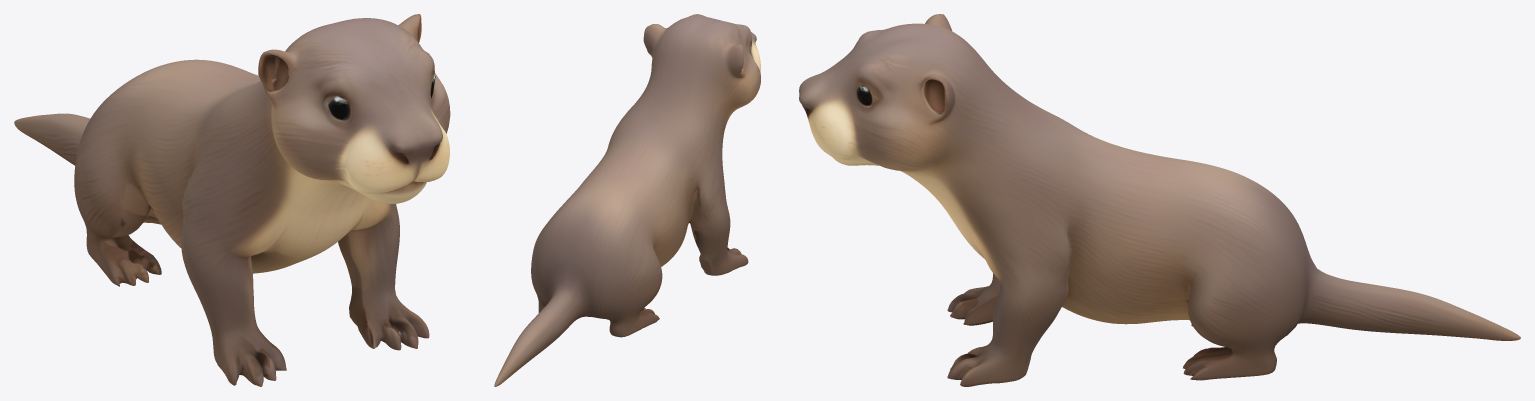
The model's file is giantOtter.glb.
3 views of the same model, side by side, from view 1: azimuth 30°, elevation 25°; view 2: azimuth 150°, elevation 25°; view 3: azimuth 270°, elevation 25° (orthographic). The views are drawn at different scales.
Parts seen in each view (by area): view 1: model; view 2: model; view 3: model.
Boxes of the visible parts, x1,y1,x2,y2 form: model: [14, 14, 460, 386]; model: [494, 14, 767, 386]; model: [799, 14, 1520, 386].
Bounding box in the file's own units: 0.5488 × 0.8993 × 1.9.
Materials: 1 (1 with a texture image).
